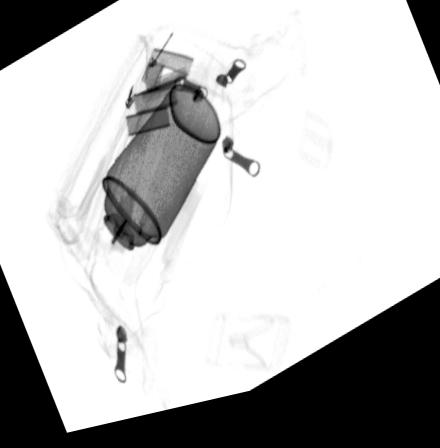Sprayer: (72, 90, 221, 294)
